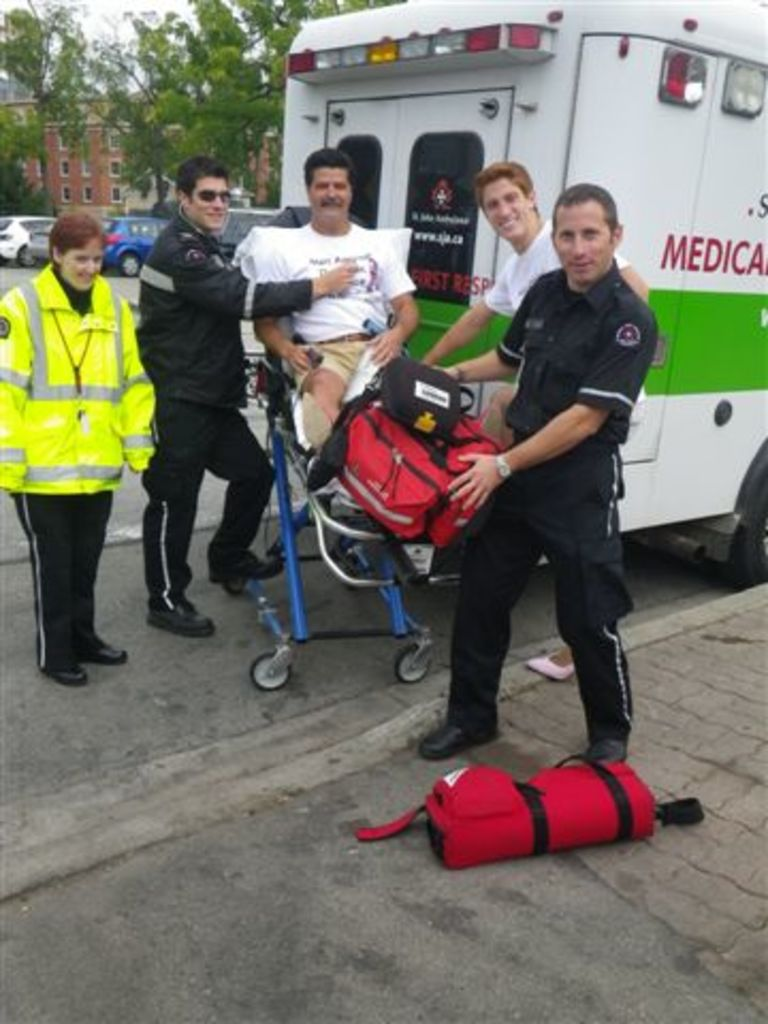Person: (0, 148, 658, 768)
